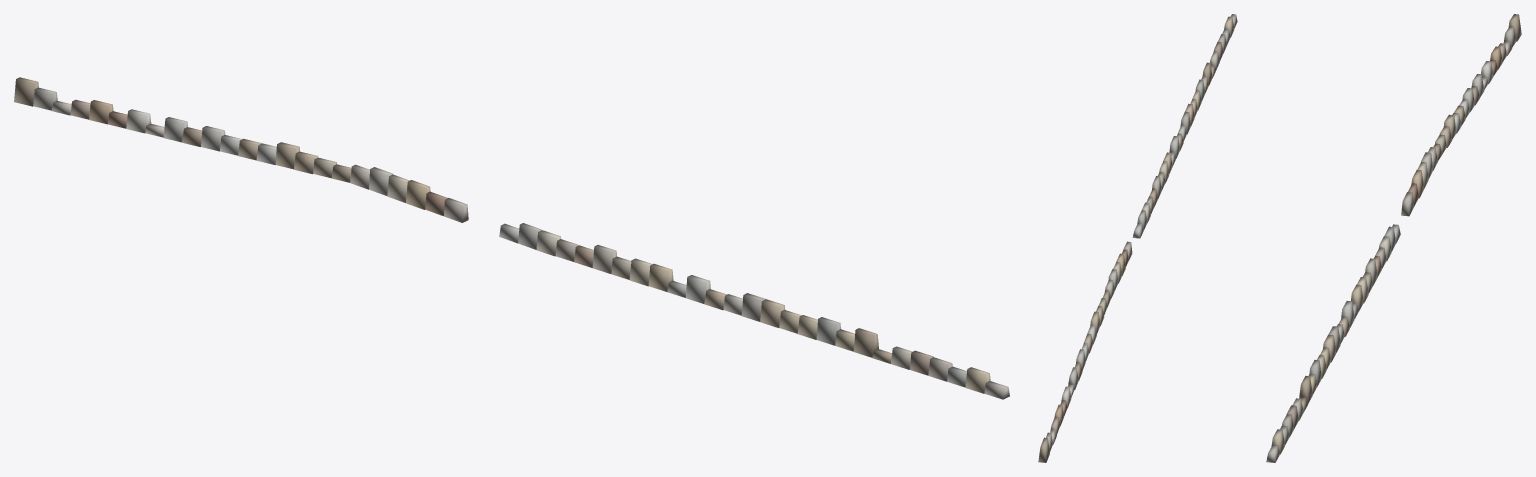
Rendered from farm_-38_-50_collision.glb.
3 views of the same model, side by side, from view 1: azimuth 30°, elevation 25°; view 2: azimuth 150°, elevation 25°; view 3: azimuth 330°, elevation 25° (orthographic). The views are drawn at different scales.
Visible parts, largest first — view 1: geometry_0; view 2: geometry_0; view 3: geometry_0.
Boxes of the visible parts, left/top/right/bottom form: geometry_0: left=14, top=77, right=1009, bottom=399; geometry_0: left=1038, top=14, right=1237, bottom=462; geometry_0: left=1266, top=14, right=1521, bottom=462.
Bounding box in the file's own units: 27 × 6.51 × 80.32.
